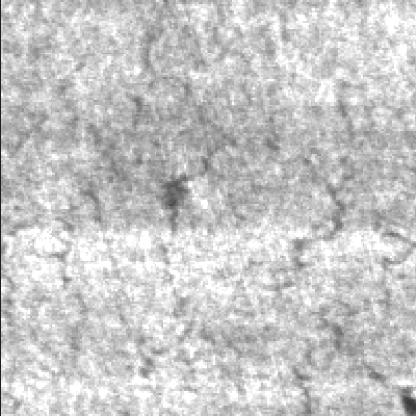crazing: (89, 4, 285, 246), (279, 68, 416, 411), (2, 50, 116, 372)
